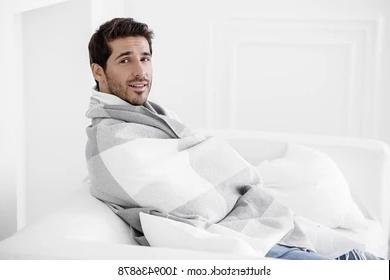blanket: (84, 83, 368, 260)
